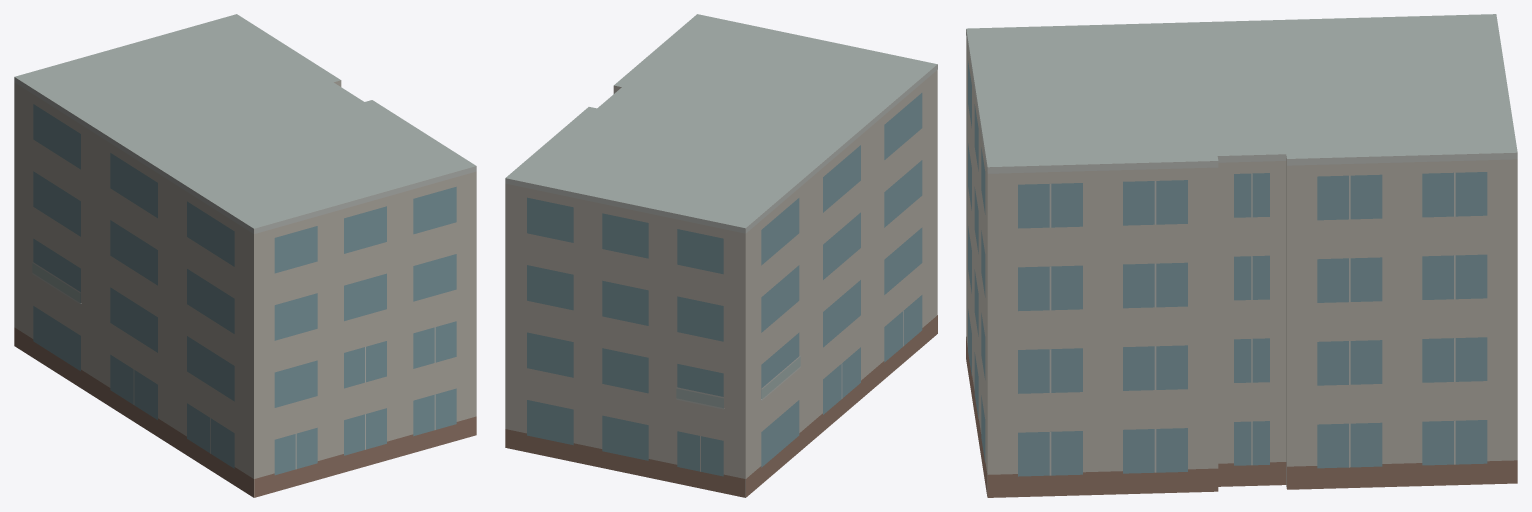
Rendered from survey-upis-32612390.glb.
The picture shows the model from 3 angles, left to right: view 1: azimuth 30°, elevation 25°; view 2: azimuth 150°, elevation 25°; view 3: azimuth 270°, elevation 25°; orthographic projection. The views are drawn at different scales.
Parts seen in each view (by area): view 1: survey-upis-32612390.tmp; view 2: survey-upis-32612390.tmp; view 3: survey-upis-32612390.tmp.
Boxes of the visible parts, bbox=[...] form: survey-upis-32612390.tmp: bbox=[14, 14, 476, 497]; survey-upis-32612390.tmp: bbox=[505, 14, 937, 497]; survey-upis-32612390.tmp: bbox=[966, 14, 1517, 497].
Size of the model in its own units: 12.13 by 12.2 by 18.45.
